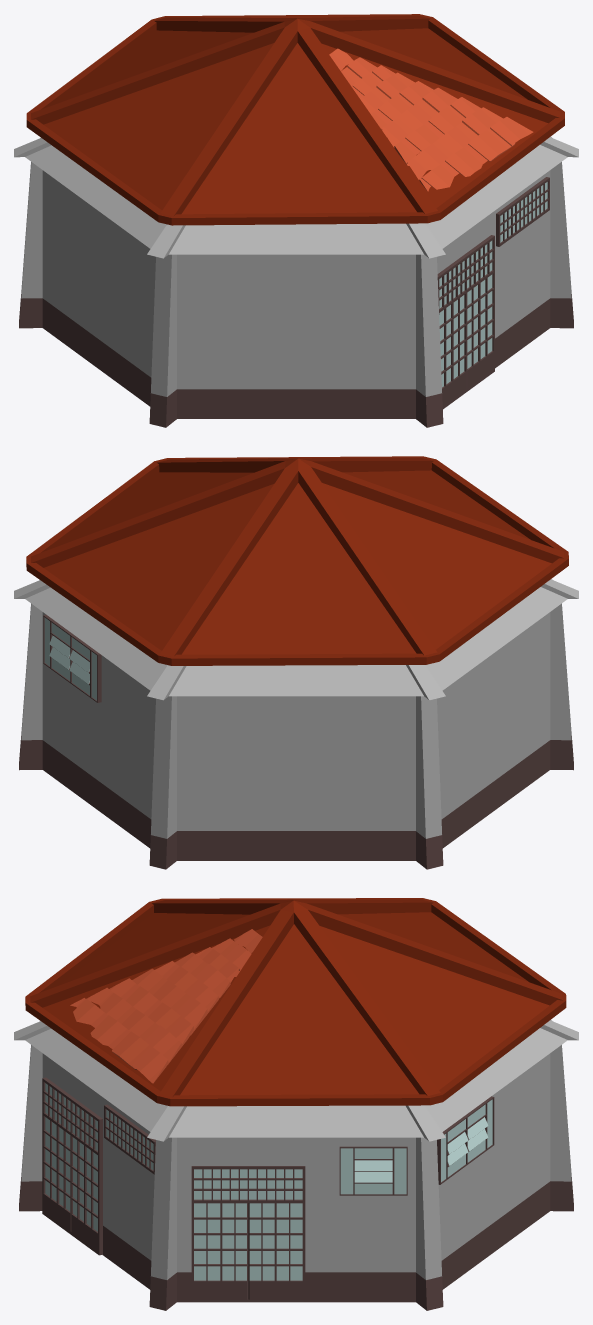
Rendered from CentroCultural.fbx.
3 renders of one model, top to bottom at view 1: azimuth 30°, elevation 25°; view 2: azimuth 150°, elevation 25°; view 3: azimuth 270°, elevation 25°, orthographic.
Visible parts, largest first — view 1: Cylinder.001, BaseTelhado.001, TelhadoBase, Telha.002, PortaGrade1, JanelaG; view 2: BaseTelhado.001, Cylinder.001, TelhadoBase, JanelaM; view 3: BaseTelhado.001, Cylinder.001, TelhadoBase, PortaGrade2, Telha.002, PortaGrade1, JanelaP, JanelaM, JanelaG.
Part boxes in pixels (<box>): Cylinder.001: <box>19,162,573,427</box>; BaseTelhado.001: <box>26,14,564,225</box>; TelhadoBase: <box>14,136,578,258</box>; Telha.002: <box>329,48,533,191</box>; PortaGrade1: <box>437,235,494,409</box>; JanelaG: <box>496,177,549,246</box>; BaseTelhado.001: <box>26,456,568,665</box>; Cylinder.001: <box>19,593,573,869</box>; TelhadoBase: <box>14,579,578,700</box>; JanelaM: <box>43,614,101,702</box>; BaseTelhado.001: <box>25,898,566,1106</box>; Cylinder.001: <box>19,1034,573,1310</box>; TelhadoBase: <box>14,1020,578,1141</box>; PortaGrade2: <box>191,1166,305,1302</box>; Telha.002: <box>70,929,262,1083</box>; PortaGrade1: <box>42,1077,102,1255</box>; JanelaP: <box>339,1146,407,1195</box>; JanelaM: <box>437,1096,494,1184</box>; JanelaG: <box>104,1104,155,1174</box>.
Size of the model in its own units: 471 by 319 by 533.
